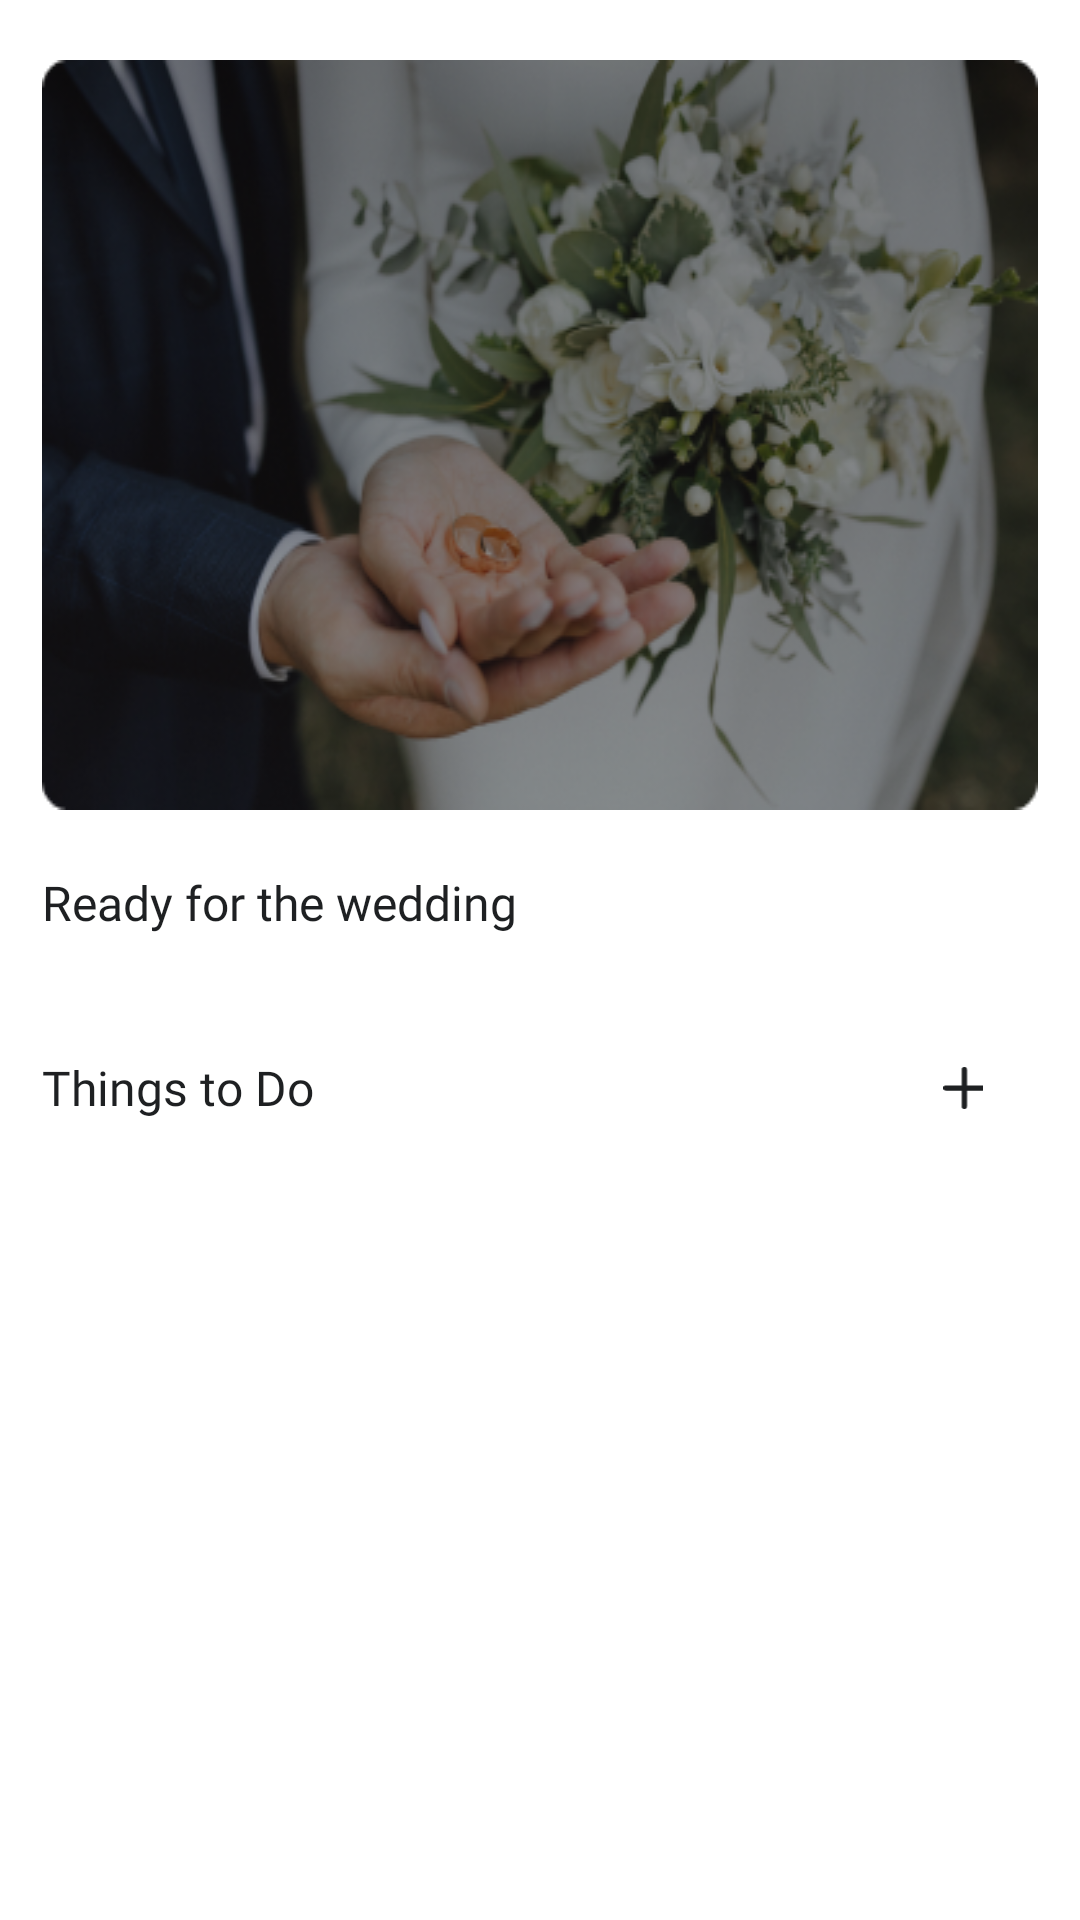

Locate icon controls on the screen. Image size 1080×1920, boxes as (x1, y1, x2, y2).
add: (943, 1067, 983, 1109)
